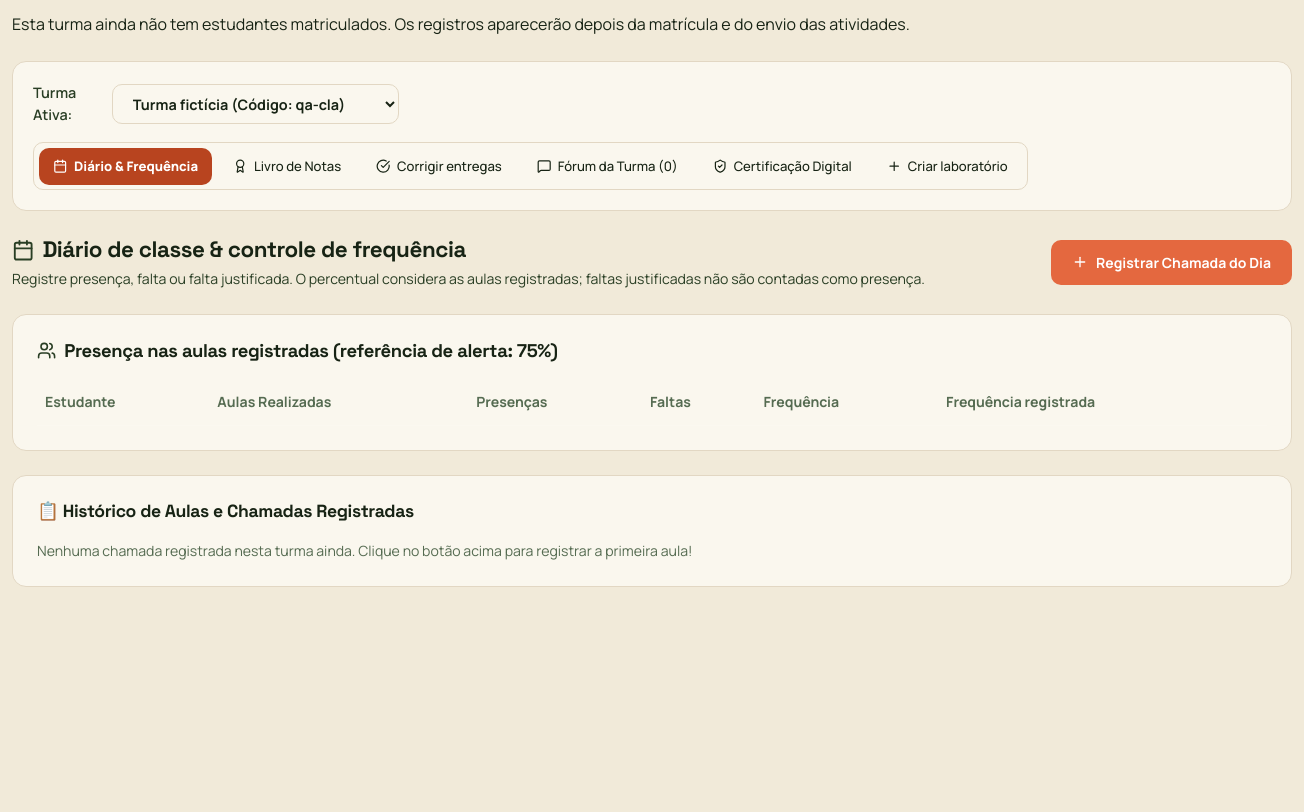
Test case: continuidade dos dados nos boletins e correção docente › turma vazia não recebe pessoas, frequência ou entregas demonstrativas
This screenshot has width=1304, height=812.
Expected: the text "Esta turma ainda não tem estudantes matriculados" is shown, 12,13 -> 910,35
Expected: the button "Registrar Chamada do Dia" is disabled, 1051,240 -> 1292,285
Step 1. Click the button "Corrigir entregas" → coordinates (439, 166), box 362,148 -> 516,185
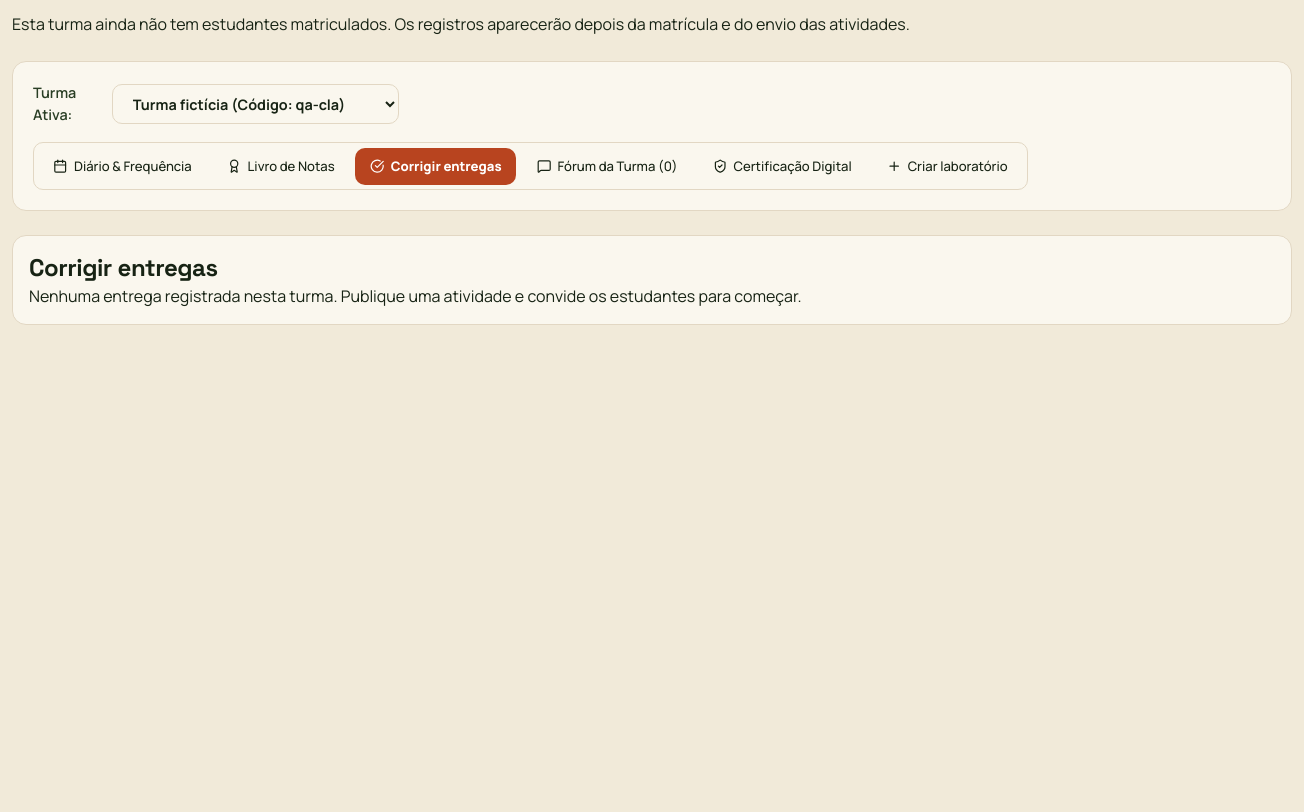
Now the text "Nenhuma entrega registrada nesta turma" is shown, box 29,285 -> 802,307
